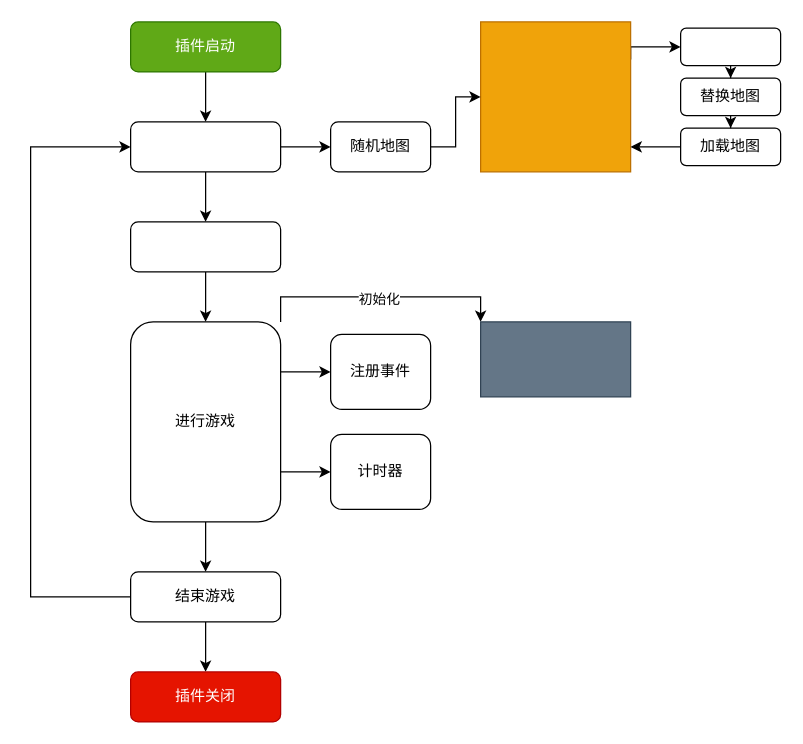
This 803x744 diagram has some shape labels left out. Each missing label, with the centre of its shape:
"初始化地图" goes at point 205,146.
"卸载地图" goes at point 730,46.
"地图管理" goes at point 555,96.
"状态管理" goes at point 555,359.
"等待开始" goes at point 205,246.
